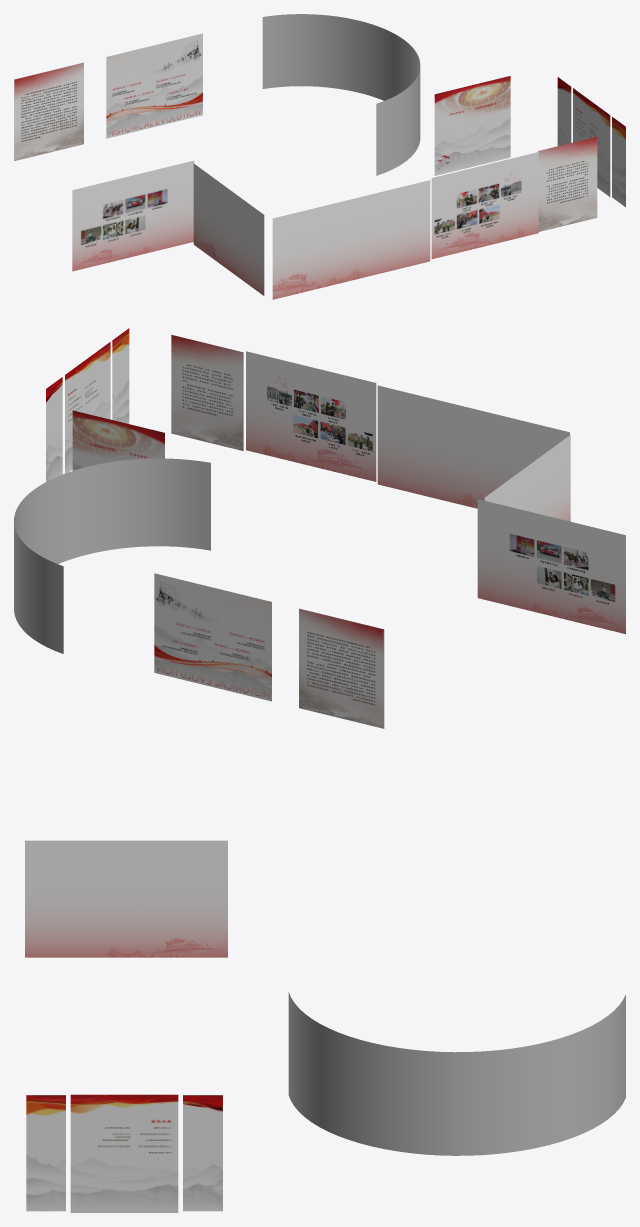
The model's file is 卫生队.fbx.
The picture shows the model from 3 angles, top to bottom: view 1: azimuth 30°, elevation 25°; view 2: azimuth 150°, elevation 25°; view 3: azimuth 270°, elevation 25°; orthographic projection. The views are drawn at different scales.
Parts seen in each view (by area): view 1: 卫生队_发展历程, 卫生队_建设成就, 卫生队_官兵风采, 卫生队_重大任务, 卫生队_历史沿革, 卫生队_历任主官, 卫生队_军营文化, 卫生队_前言, 卫生队_未来寄语, 卫生队_历史荣誉中, 卫生队_历史荣誉右, 卫生队_历史荣誉左; view 2: 卫生队_发展历程, 卫生队_官兵风采, 卫生队_建设成就, 卫生队_重大任务, 卫生队_历史沿革, 卫生队_前言, 卫生队_未来寄语, 卫生队_军营文化, 卫生队_历任主官, 卫生队_历史荣誉中, 卫生队_历史荣誉左, 卫生队_历史荣誉右; view 3: 卫生队_发展历程, 卫生队_军营文化, 卫生队_历史荣誉中, 卫生队_历史荣誉右, 卫生队_历史荣誉左.
Part boxes in pixels (box(x1,y1,x2,y2)): 卫生队_发展历程: box(262, 14, 420, 175); 卫生队_建设成就: box(272, 180, 430, 299); 卫生队_官兵风采: box(72, 160, 194, 271); 卫生队_重大任务: box(431, 152, 538, 259); 卫生队_历史沿革: box(106, 33, 202, 138); 卫生队_历任主官: box(434, 76, 510, 175); 卫生队_军营文化: box(193, 163, 264, 295); 卫生队_前言: box(14, 62, 83, 161); 卫生队_未来寄语: box(538, 136, 597, 231); 卫生队_历史荣誉中: box(573, 88, 610, 196); 卫生队_历史荣誉右: box(612, 117, 625, 207); 卫生队_历史荣誉左: box(557, 77, 571, 145); 卫生队_发展历程: box(14, 458, 210, 653); 卫生队_官兵风采: box(477, 499, 625, 634); 卫生队_建设成就: box(377, 385, 569, 508); 卫生队_重大任务: box(246, 351, 376, 481); 卫生队_历史沿革: box(154, 573, 271, 701); 卫生队_前言: box(299, 608, 384, 728); 卫生队_未来寄语: box(171, 335, 243, 450); 卫生队_军营文化: box(484, 435, 570, 521); 卫生队_历任主官: box(72, 410, 164, 470); 卫生队_历史荣誉中: box(65, 342, 110, 473); 卫生队_历史荣誉左: box(46, 377, 62, 481); 卫生队_历史荣誉右: box(112, 328, 129, 423); 卫生队_发展历程: box(288, 992, 625, 1155); 卫生队_军营文化: box(25, 840, 227, 957); 卫生队_历史荣誉中: box(70, 1094, 178, 1212); 卫生队_历史荣誉右: box(26, 1095, 65, 1211); 卫生队_历史荣誉左: box(183, 1095, 222, 1211).
Size of the model in its own units: 1029 by 170 by 789.
